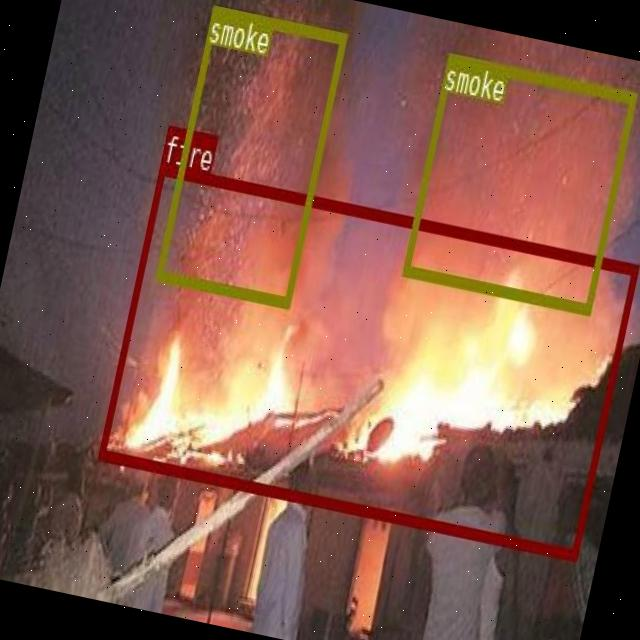fire: (98, 163, 638, 558)
smoke: (400, 50, 636, 312), (154, 5, 346, 307)
